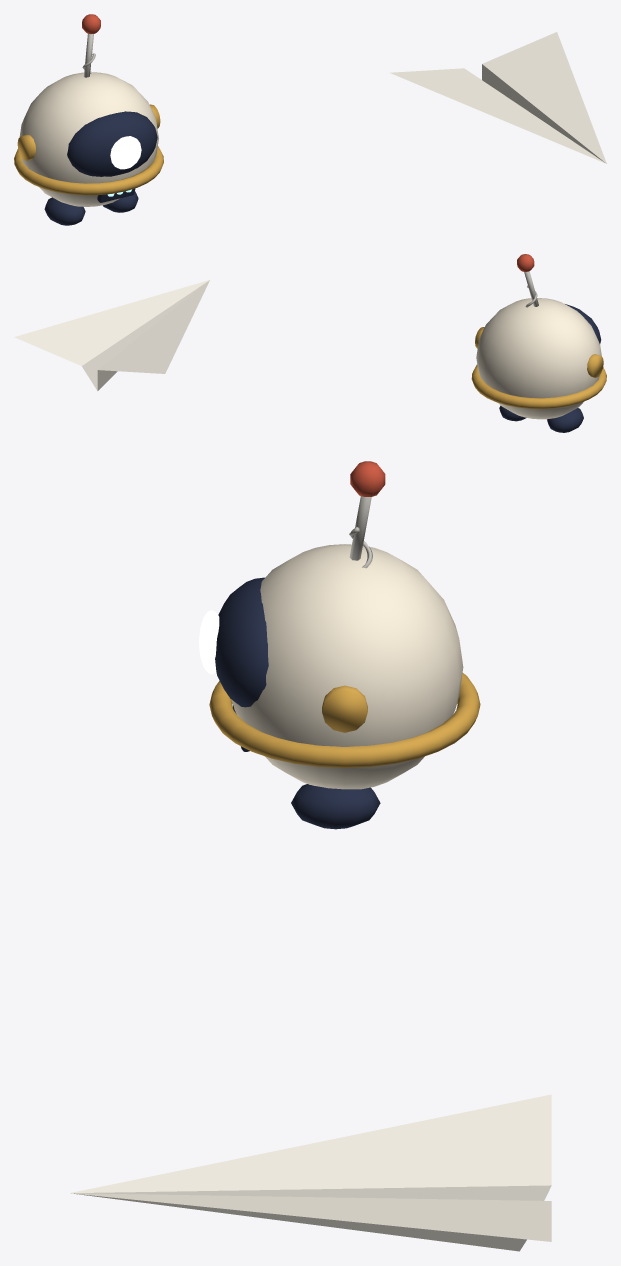
File: critters.glb
3 renders of one model, top to bottom at view 1: azimuth 30°, elevation 25°; view 2: azimuth 150°, elevation 25°; view 3: azimuth 270°, elevation 25°, orthographic. The views are drawn at different scales.
Parts seen in each view (by area): view 1: PaperPlane_Sheet, Bot_Body, Bot_Visor, Bot_Band, Bot_Feet, Bot_Eye, Bot_Ears, Bot_Tip; view 2: Bot_Body, PaperPlane_Sheet, Bot_Band, Bot_Feet, Bot_Ears, Bot_Tip; view 3: PaperPlane_Sheet, Bot_Body, Bot_Band, Bot_Visor, Bot_Feet, Bot_Ears, Bot_Eye.
Boxes of the visible parts, left/top/right/bottom form: PaperPlane_Sheet: left=390, top=32, right=606, bottom=163; Bot_Body: left=19, top=72, right=158, bottom=206; Bot_Visor: left=67, top=111, right=157, bottom=176; Bot_Band: left=14, top=146, right=163, bottom=195; Bot_Feet: left=44, top=191, right=138, bottom=225; Bot_Eye: left=110, top=136, right=141, bottom=169; Bot_Ears: left=17, top=104, right=160, bottom=160; Bot_Tip: left=82, top=14, right=100, bottom=33; Bot_Body: left=476, top=298, right=601, bottom=419; PaperPlane_Sheet: left=14, top=280, right=209, bottom=390; Bot_Band: left=471, top=364, right=606, bottom=408; Bot_Feet: left=499, top=405, right=583, bottom=432; Bot_Ears: left=475, top=327, right=603, bottom=377; Bot_Tip: left=517, top=254, right=534, bottom=271; PaperPlane_Sheet: left=70, top=1094, right=551, bottom=1251; Bot_Body: left=232, top=544, right=463, bottom=789; Bot_Band: left=209, top=673, right=480, bottom=767; Bot_Visor: left=215, top=577, right=268, bottom=707; Bot_Feet: left=291, top=784, right=380, bottom=829; Bot_Ears: left=322, top=685, right=367, bottom=732; Bot_Eye: left=199, top=610, right=219, bottom=674.
Size of the model in its own units: 2.67 by 0.98 by 1.05.
